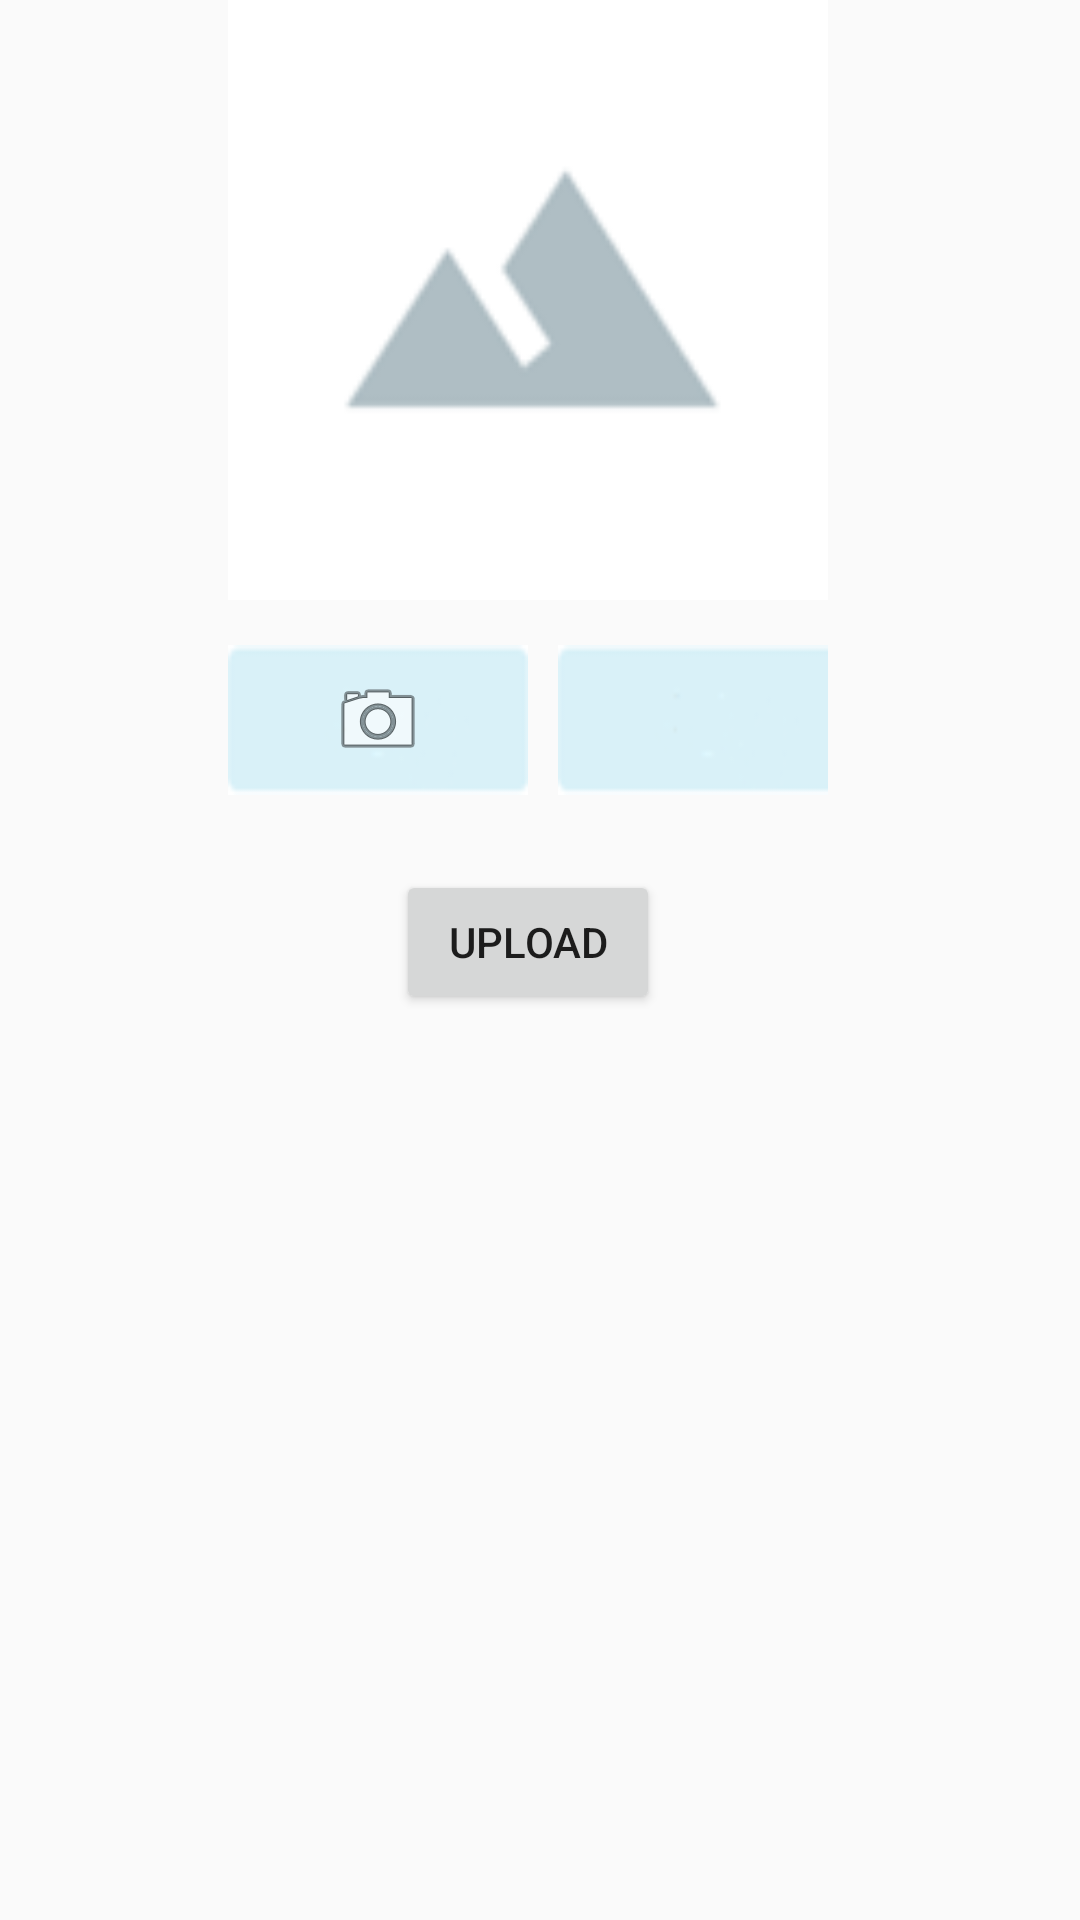

Icon click points for this 1080*1920 phone screenshot, format (x,y):
camera: (378,719)
